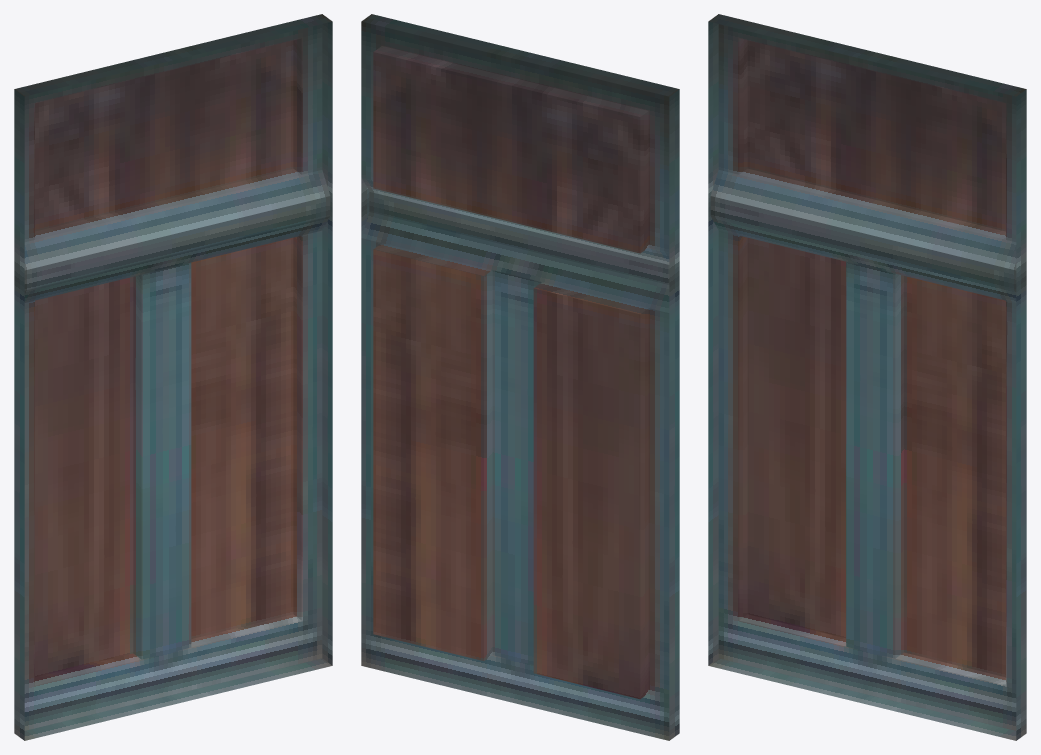
File: window_frame_green.glb
The picture shows the model from 3 angles, left to right: view 1: azimuth 30°, elevation 25°; view 2: azimuth 150°, elevation 25°; view 3: azimuth 330°, elevation 25°; orthographic projection.
Visible parts, largest first — view 1: window_frame_green; view 2: window_frame_green; view 3: window_frame_green.
Part boxes in pixels (x1,y1,x2,y2): window_frame_green: (14, 14, 332, 740); window_frame_green: (361, 14, 679, 740); window_frame_green: (708, 14, 1026, 740).
Size of the model in its own units: 0.6096 by 1.22 by 0.0642.
Materials: 1 (1 with a texture image).
